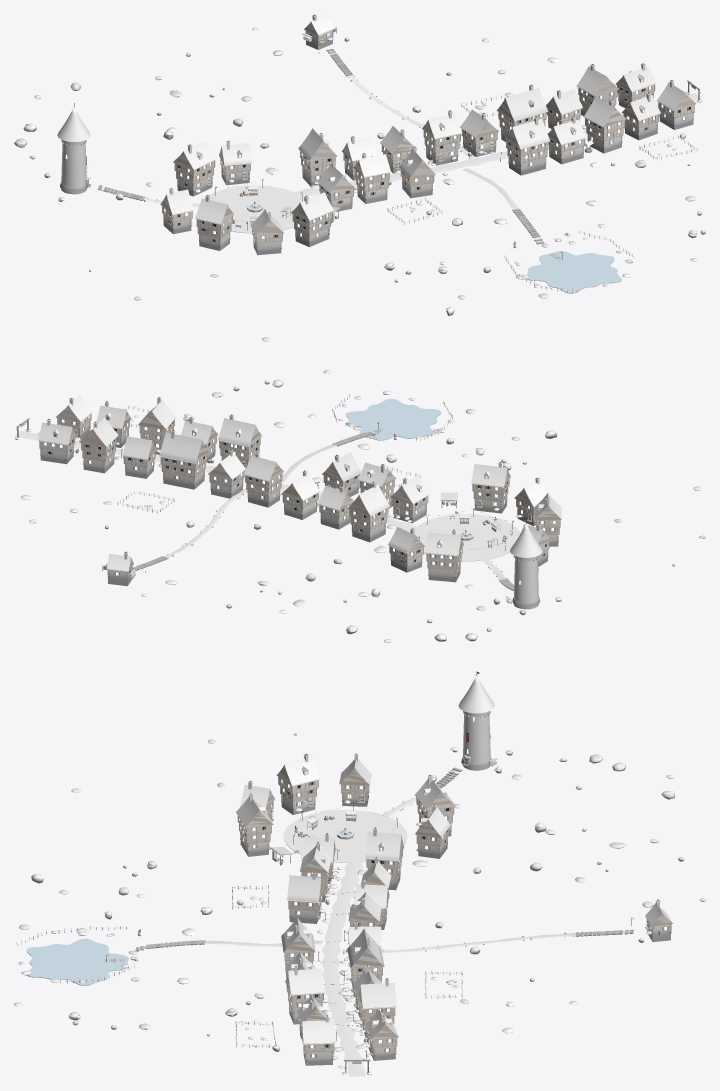
Rendered from borgo_inverno.glb.
3 views of the same model, one above another, from view 1: azimuth 30°, elevation 25°; view 2: azimuth 150°, elevation 25°; view 3: azimuth 270°, elevation 25° (orthographic). The views are drawn at different scales.
Visible parts, largest first — view 1: case0.neve, case1.neve, case2.neve, vie.ciottoli, case2.legno, case0.legno, case1.legno, stagno.ghiaccio, case1.muro, case0.muro, case2.muro, case2.intonaco (+12 smaller); view 2: case0.neve, case1.neve, case2.neve, vie.ciottoli, case1.legno, case2.legno, case0.legno, stagno.ghiaccio, case0.muro, case1.muro, case2.muro, case2.intonaco (+12 smaller); view 3: vie.ciottoli, case2.neve, case1.neve, case0.neve, stagno.ghiaccio, case2.legno, intorno.neve, case0.legno, case1.legno, torre.muro, case2.muro, case2.intonaco (+12 smaller).
Part boxes in pixels (x1=…): case0.neve: x1=174, y1=64, x2=695, y2=242; case1.neve: x1=195, y1=64, x2=660, y2=242; case2.neve: x1=163, y1=89, x2=624, y2=237; vie.ciottoli: x1=98, y1=93, x2=702, y2=233; case2.legno: x1=161, y1=97, x2=625, y2=237; case0.legno: x1=173, y1=77, x2=696, y2=243; case1.legno: x1=196, y1=77, x2=659, y2=243; stagno.ghiaccio: x1=526, y1=251, x2=621, y2=293; case1.muro: x1=199, y1=66, x2=657, y2=250; case0.muro: x1=177, y1=65, x2=693, y2=255; case2.muro: x1=163, y1=92, x2=621, y2=247; case2.intonaco: x1=162, y1=108, x2=624, y2=233; case0.neve: x1=38, y1=394, x2=547, y2=571; case1.neve: x1=80, y1=401, x2=561, y2=563; case2.neve: x1=122, y1=397, x2=549, y2=557; vie.ciottoli: x1=14, y1=431, x2=520, y2=589; case1.legno: x1=81, y1=412, x2=561, y2=564; case2.legno: x1=122, y1=412, x2=550, y2=557; case0.legno: x1=38, y1=405, x2=534, y2=570; stagno.ghiaccio: x1=345, y1=398, x2=441, y2=440; case0.muro: x1=40, y1=400, x2=539, y2=582; case1.muro: x1=83, y1=403, x2=558, y2=572; case2.muro: x1=125, y1=399, x2=547, y2=566; case2.intonaco: x1=124, y1=420, x2=548, y2=551; vie.ciottoli: x1=283, y1=768, x2=460, y2=1076; case2.neve: x1=236, y1=753, x2=402, y2=1012; case1.neve: x1=280, y1=754, x2=450, y2=1032; case0.neve: x1=240, y1=775, x2=455, y2=1059; stagno.ghiaccio: x1=26, y1=938, x2=128, y2=985; case2.legno: x1=236, y1=768, x2=404, y2=1011; intorno.neve: x1=14, y1=734, x2=705, y2=1048; case0.legno: x1=265, y1=790, x2=455, y2=1057; case1.legno: x1=278, y1=767, x2=450, y2=1029; torre.muro: x1=463, y1=711, x2=490, y2=770; case2.muro: x1=240, y1=756, x2=400, y2=1024; case2.intonaco: x1=238, y1=784, x2=402, y2=1010.
Bounding box in the file's own units: 222 × 37.55 × 190.
